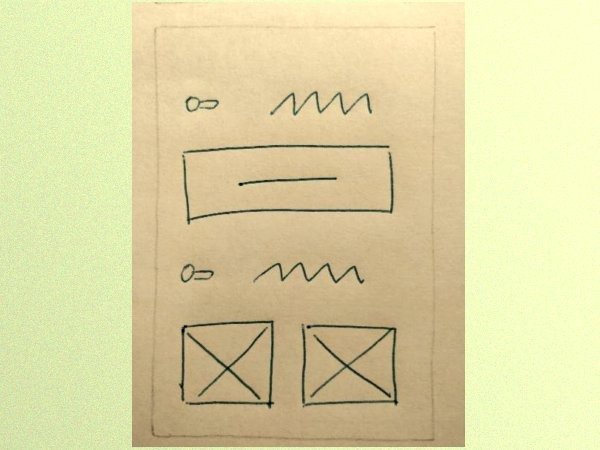button: (177, 141, 405, 228)
image: (290, 318, 410, 417), (177, 314, 280, 412)
switch: (177, 84, 232, 121), (171, 256, 222, 289)
text: (243, 255, 379, 294), (263, 84, 382, 121)
